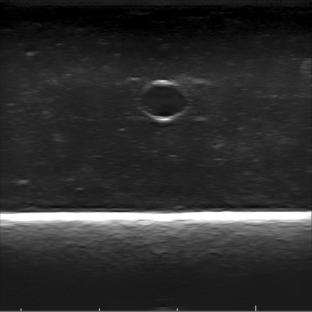vessel: (137, 79, 190, 122)
